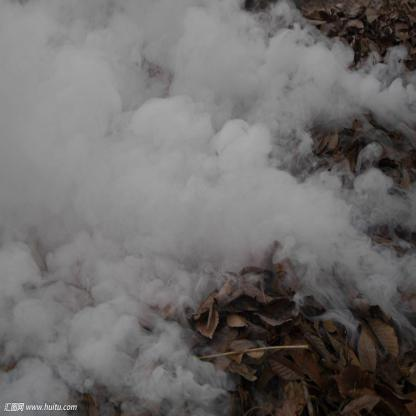smoke: (2, 0, 192, 414), (192, 3, 312, 288), (314, 168, 409, 312), (314, 42, 402, 126), (192, 356, 228, 414)
